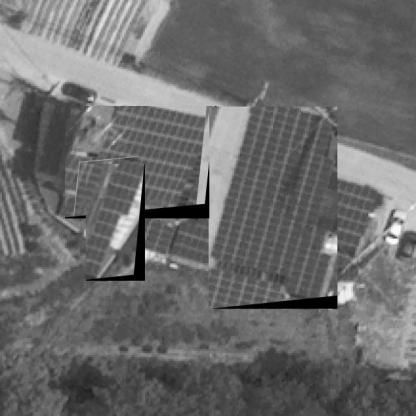solar-pv-panel: (209, 107, 337, 301), (65, 106, 215, 209), (86, 164, 144, 280)
